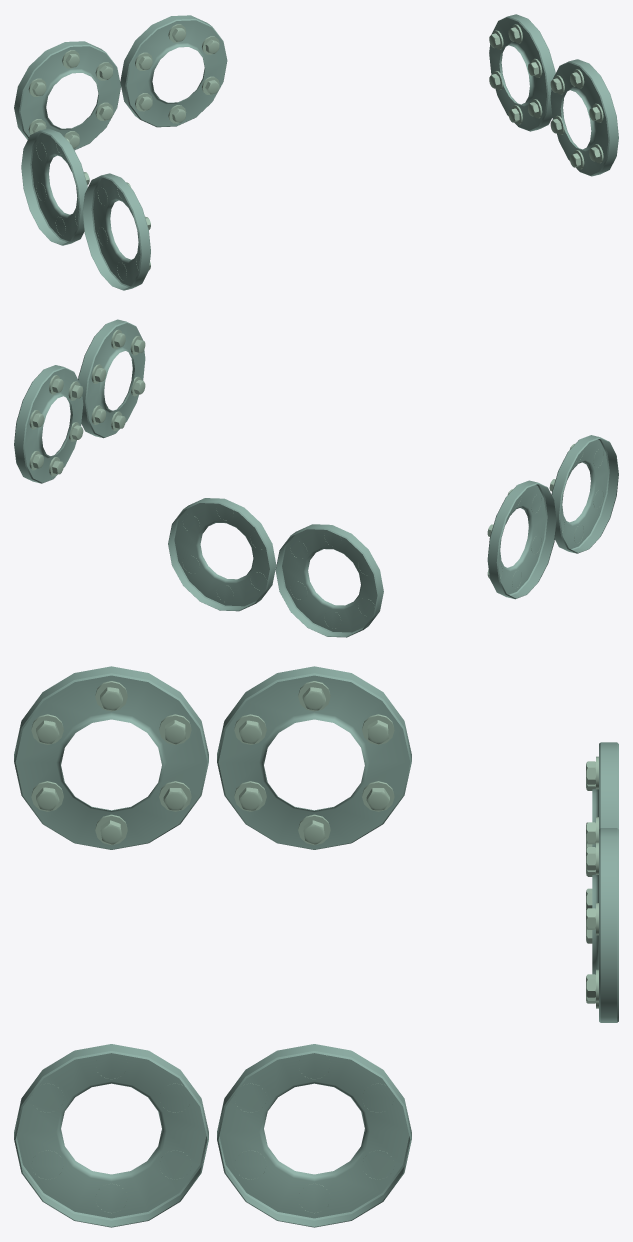
Rendered from PipeComplexLarge_A3_09_End.fbx.
3 renders of one model, top to bottom at view 1: azimuth 30°, elevation 25°; view 2: azimuth 150°, elevation 25°; view 3: azimuth 270°, elevation 25°, orthographic. The views are drawn at different scales.
Parts seen in each view (by area): view 1: PipeComplexLarge_A3_09_End.001; view 2: PipeComplexLarge_A3_09_End.001; view 3: PipeComplexLarge_A3_09_End.001.
Boxes of the visible parts, <box> form: PipeComplexLarge_A3_09_End.001: <box>14,14,618,290</box>; PipeComplexLarge_A3_09_End.001: <box>14,319,618,637</box>; PipeComplexLarge_A3_09_End.001: <box>14,666,618,1227</box>.
Size of the model in its own units: 1.8 by 0.3846 by 1.19.
